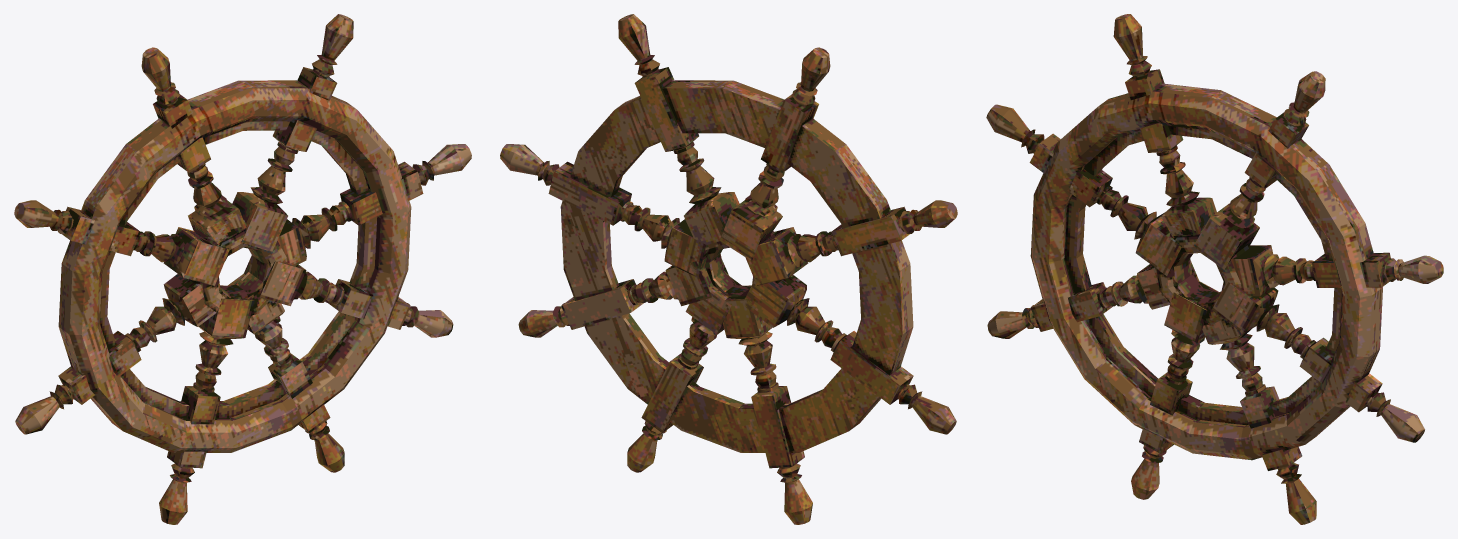
The model's file is SM_Wheel_Ornamental.fbx.
3 views of the same model, side by side, from view 1: azimuth 30°, elevation 25°; view 2: azimuth 150°, elevation 25°; view 3: azimuth 330°, elevation 25° (orthographic).
Visible parts, largest first — view 1: Wheel_Ornamental; view 2: Wheel_Ornamental; view 3: Wheel_Ornamental.
Part boxes in pixels (x1,y1,x2,y2): Wheel_Ornamental: [14, 14, 471, 524]; Wheel_Ornamental: [500, 14, 957, 524]; Wheel_Ornamental: [986, 14, 1443, 524].
Bounding box in the file's own units: 88.08 × 88.93 × 6.75.
Materials: 1 (1 with a texture image).
